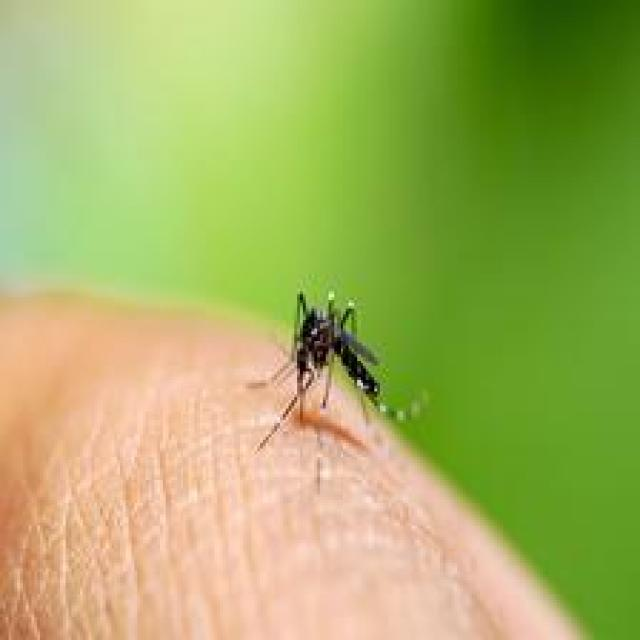Aedes albopictus: (248, 287, 423, 456)
